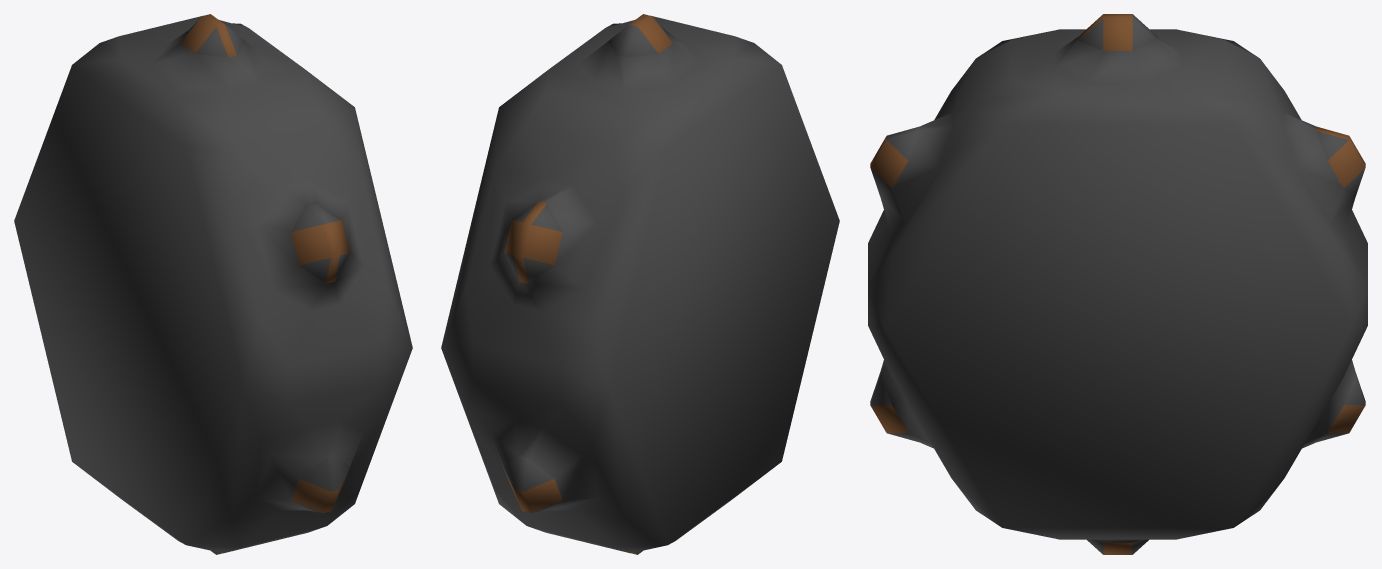
Rendered from wheel.002.glb.
The picture shows the model from 3 angles, left to right: view 1: azimuth 30°, elevation 25°; view 2: azimuth 150°, elevation 25°; view 3: azimuth 270°, elevation 25°; orthographic projection.
Visible parts, largest first — view 1: wheel.002; view 2: wheel.002; view 3: wheel.002.
Boxes of the visible parts, x1,y1,x2,y2 form: wheel.002: [14, 14, 412, 554]; wheel.002: [441, 14, 839, 554]; wheel.002: [868, 14, 1367, 554].
Bounding box in the file's own units: 0.4031 × 1.21 × 1.02.
